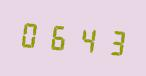four: (72, 20, 98, 58)
six: (45, 17, 71, 55)
three: (99, 22, 125, 60)
zero: (18, 15, 44, 53)
